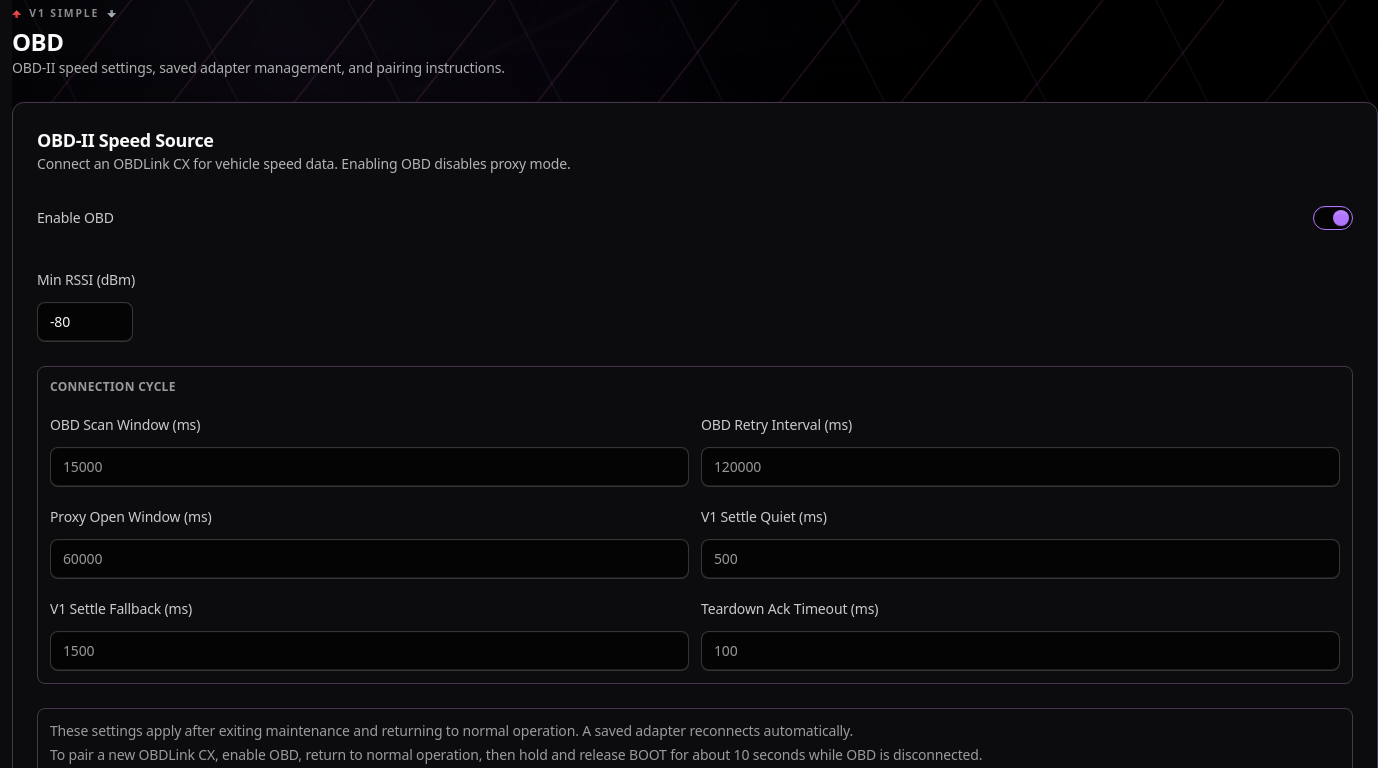
obd route page › reconciles the OBD min RSSI input after a failed save
Type "-55" into the number field labelled "Min RSSI (dBm)" at (85, 322), box [37,302,133,342]
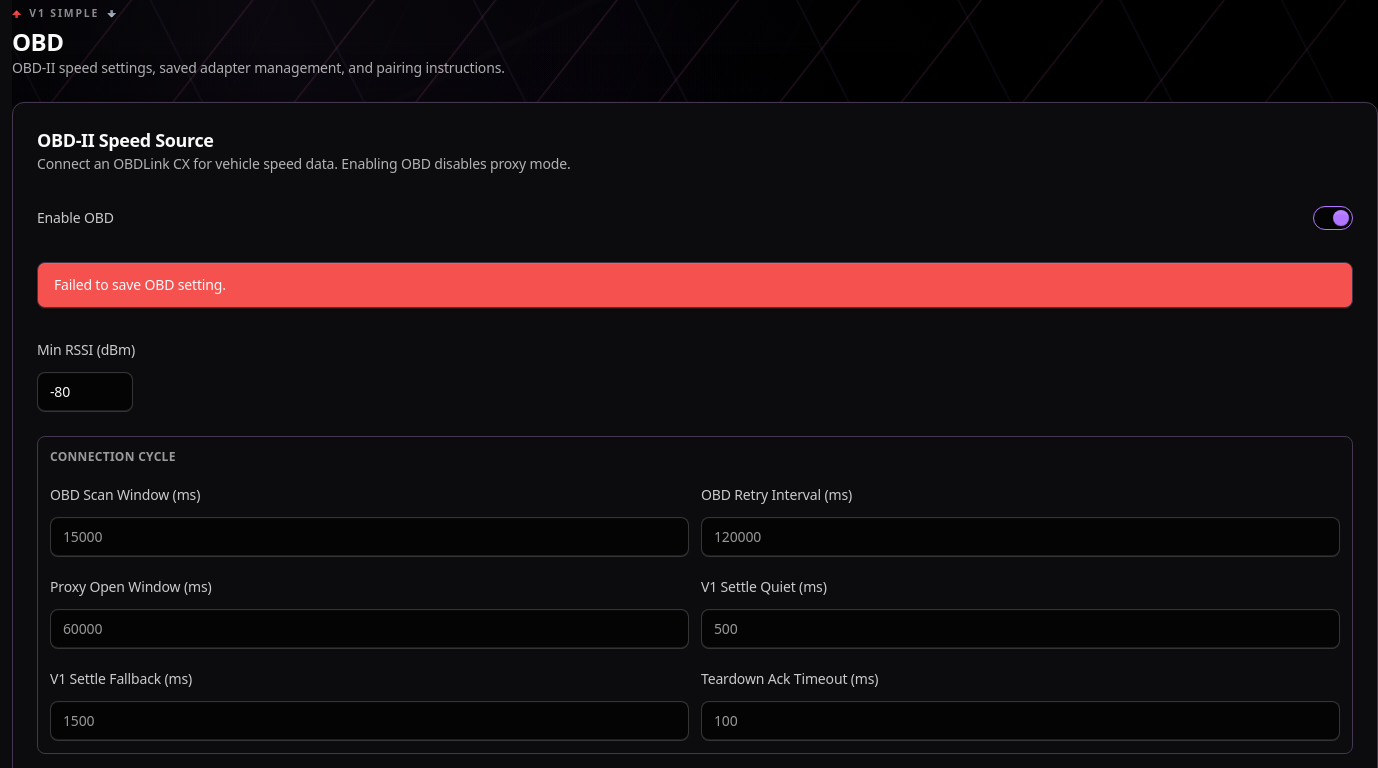
Expected: the number field labelled "Min RSSI (dBm)" holds "-80", [37,372,133,412]
Expected: the text "Failed to save OBD setting." is shown, [54,275,226,295]
